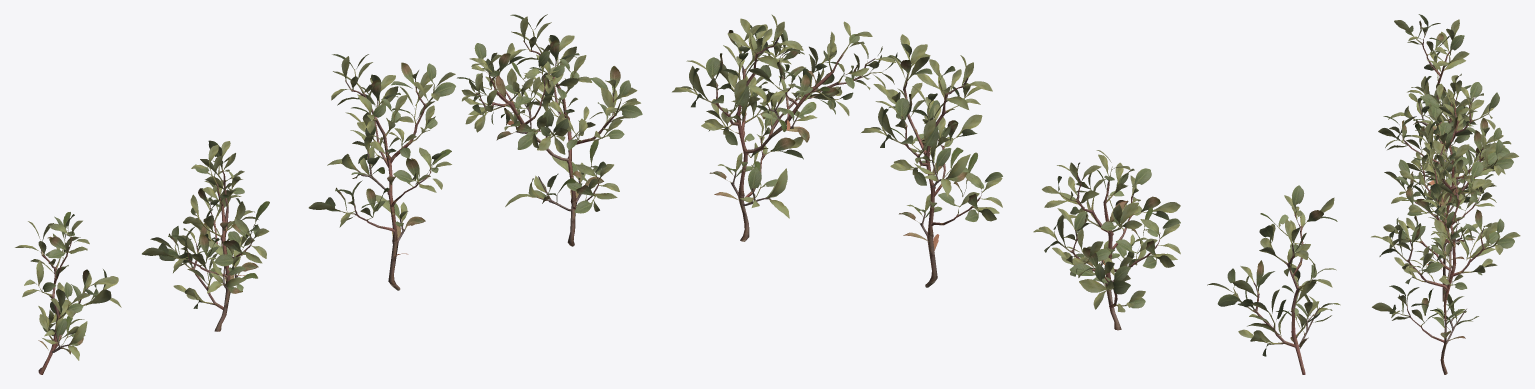
File: shrub_04.glb
3 views of the same model, side by side, from view 1: azimuth 30°, elevation 25°; view 2: azimuth 150°, elevation 25°; view 3: azimuth 270°, elevation 25° (orthographic). The views are drawn at different scales.
Parts seen in each view (by area): view 1: shrub_04; view 2: shrub_04; view 3: shrub_04.
Part boxes in pixels (x1=…): shrub_04: x1=15, y1=14, x2=642, y2=374; shrub_04: x1=672, y1=14, x2=1340, y2=374; shrub_04: x1=1371, y1=14, x2=1520, y2=374.
Bounding box in the file's own units: 0.5837 × 0.2192 × 0.1461.
1 material, 1 textured.
